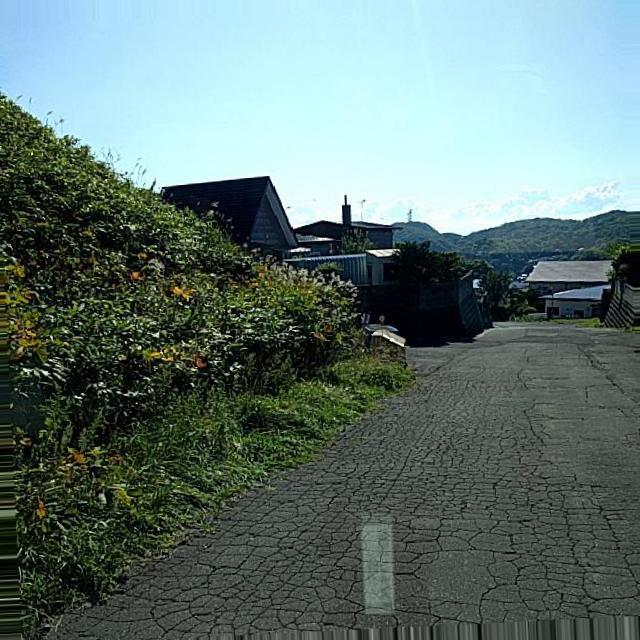Retak Buaya: (58, 410, 640, 638)
